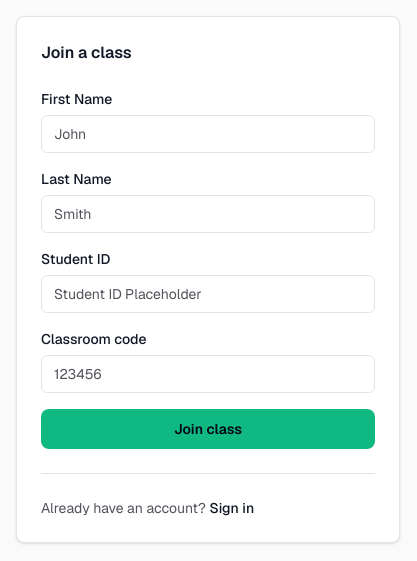
it: bounded classroom onboarding › finishes student joining inline with a sign-in destination, without navigating or claiming login
The width and height of the screenshot is (417, 561).
Type "Alex" into the field labelled "First Name". click: (208, 134)
box: [41,114,375,152]
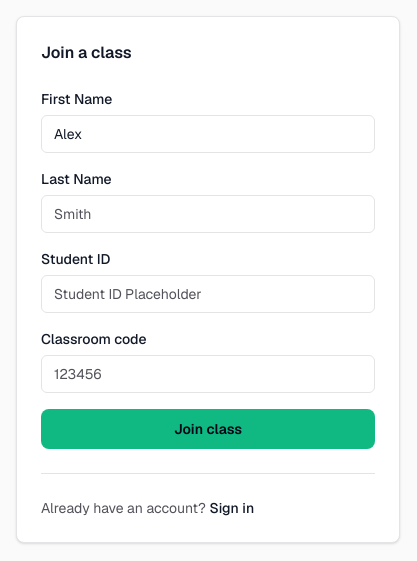
Type "Student" into the field labelled "Last Name". click: (208, 214)
box: [41,194,375,232]
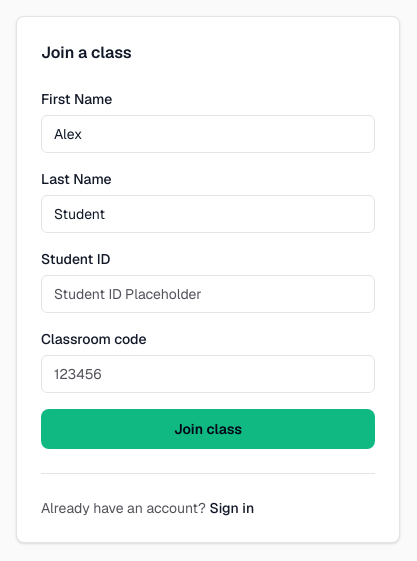
Type "DEMO1" into the field labelled "Student ID". click: (208, 294)
box: [41,274,375,312]
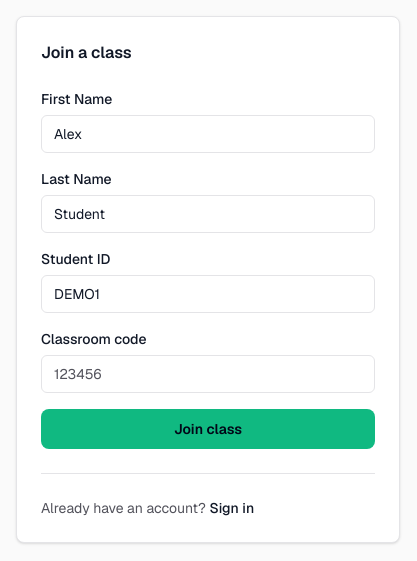
Type "ABC123" into the field labelled "Classroom code". click: (208, 374)
box: [41,354,375,392]
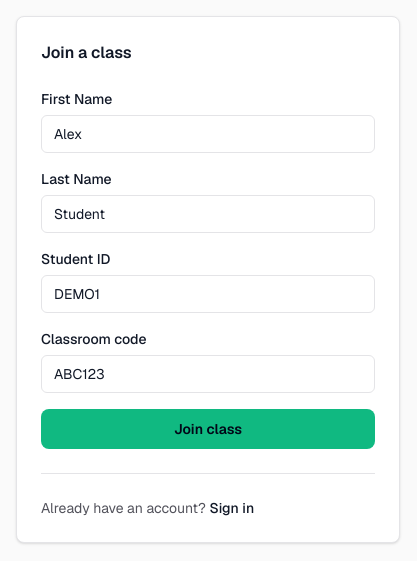
Click the button "Join class". click: (208, 428)
box: [41,408,375,448]
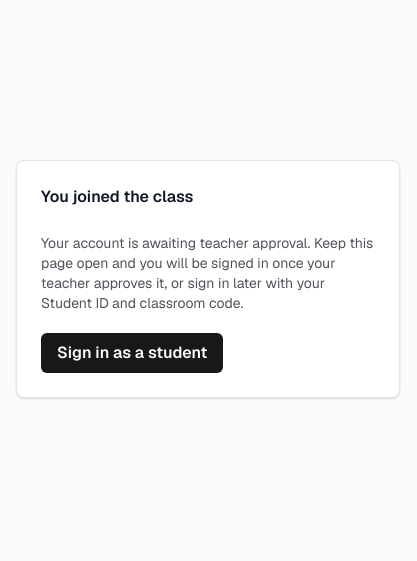
Now the message shows "awaiting teacher approval", box [41,234,373,312]
Now the form is gone
